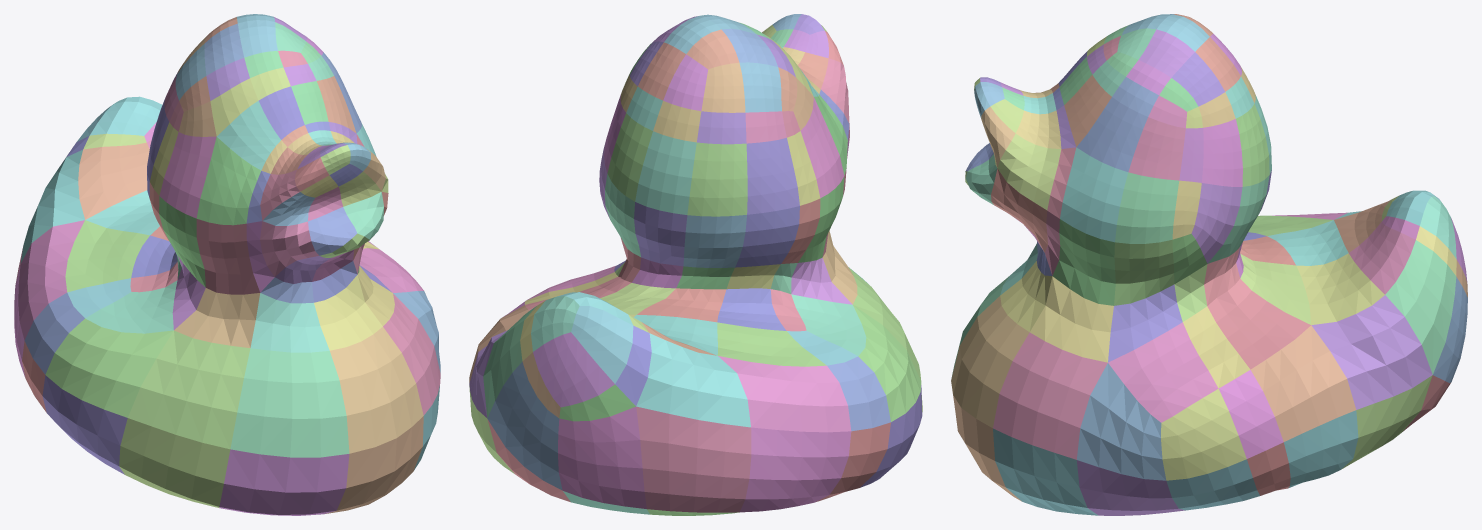
The model's file is duck_quad6_patch_color.obj.
3 views of the same model, side by side, from view 1: azimuth 30°, elevation 25°; view 2: azimuth 150°, elevation 25°; view 3: azimuth 270°, elevation 25° (orthographic). The views are drawn at different scales.
Bounding box in the file's own units: 69.55 × 79.06 × 81.92.
